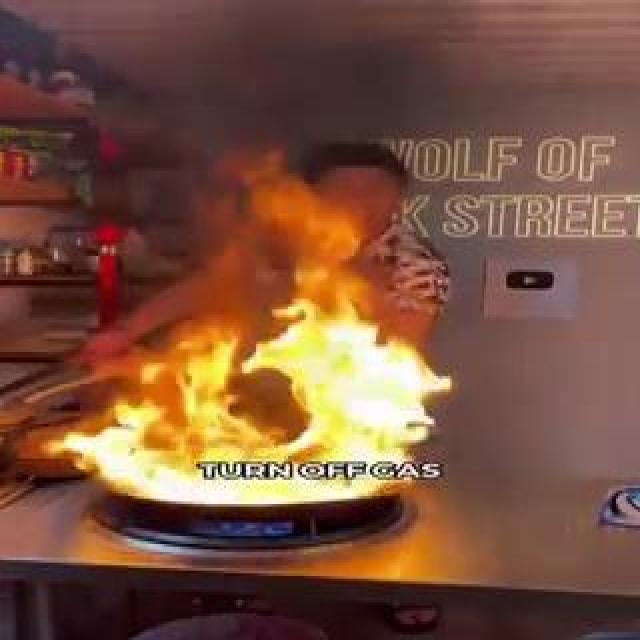Fire: (280, 330, 364, 346)
